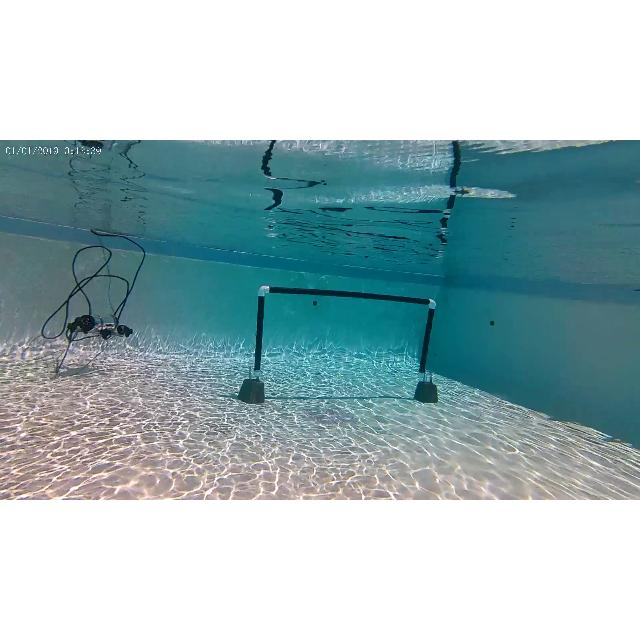prequal gate: (249, 284, 437, 378)
prequal gate leg l: (253, 286, 273, 379)
prequal gate leg r: (416, 294, 438, 382)
